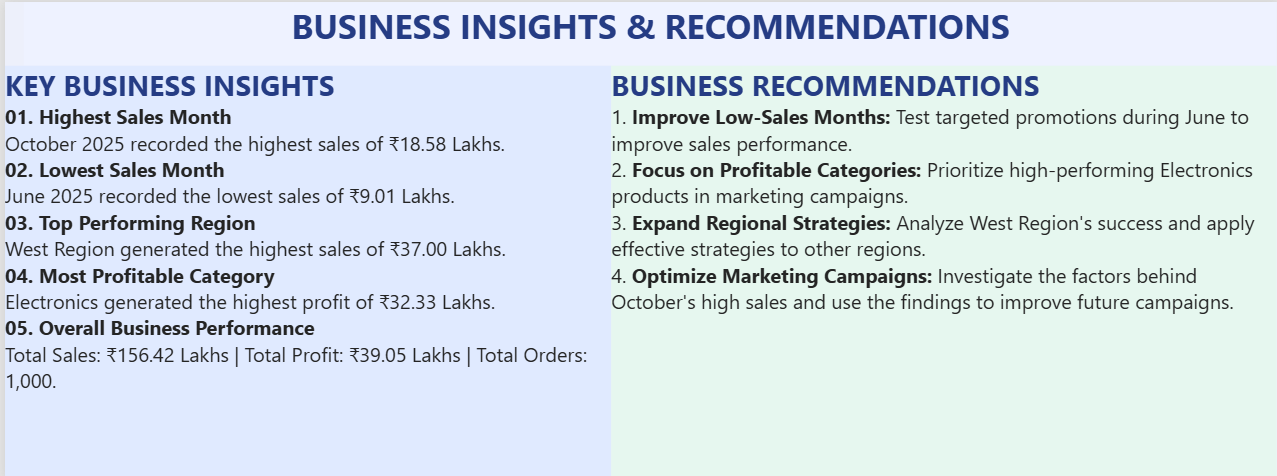

Layout of this report page (visuals, bound fields, positions):
{"tool":"powerbi","page":{"name":"business insights","canvas":[1200,450],"ordinal":1},"visuals":[{"type":"textbox","box":[17.5,0,1180,60],"z":0},{"type":"textbox","box":[0,60,570,435],"z":1000},{"type":"textbox","box":[570,60,627.5,440],"z":2000}]}

Visuals, with their boxes in screenshot pixels (x1, y1, x2, y2), scaled from the page's 1200x450 canvas onto the 1277x476 screenshot:
textbox: (19,0,1274,63)
textbox: (0,63,607,475)
textbox: (607,63,1274,475)
